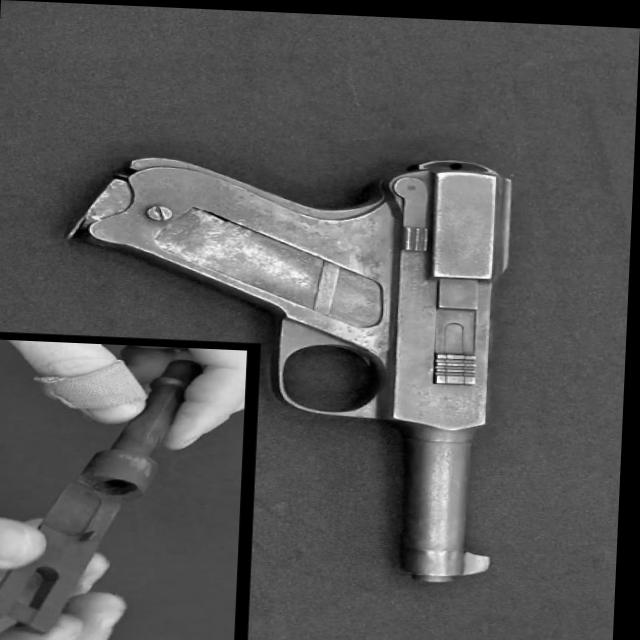handgun: (50, 138, 527, 587)
